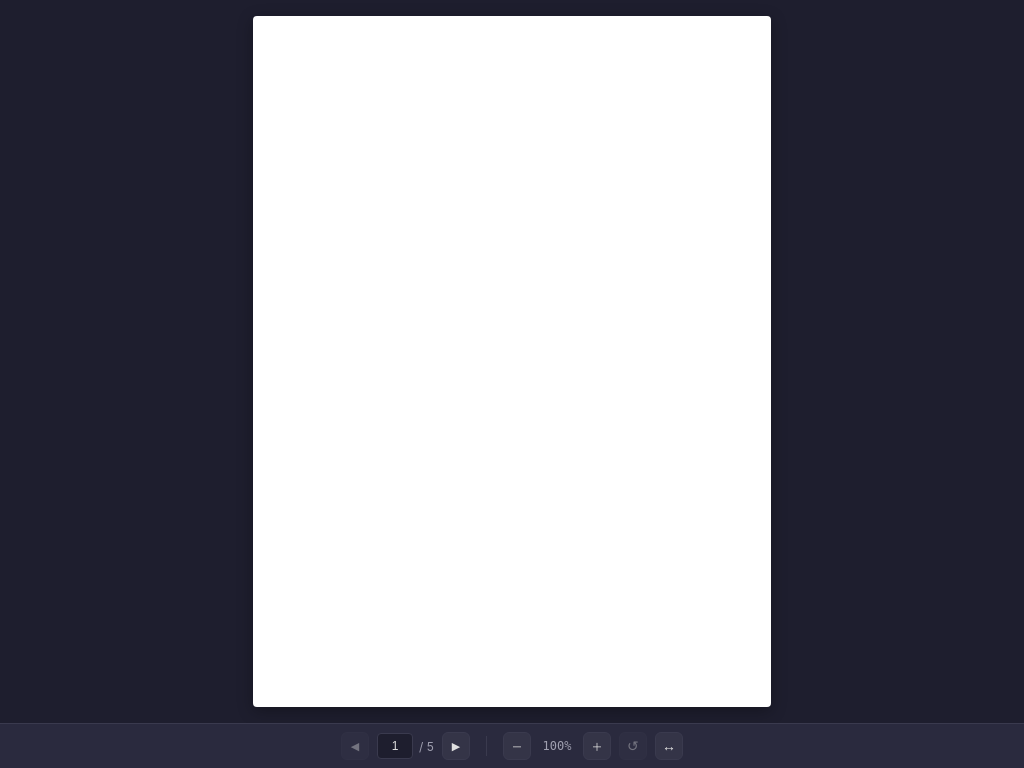
Test: RenderPdf Component › navigates page-by-page when clicking next/prev buttons
Expected: the button titled "Previous Page" is disabled, [341,732,369,760]
Click Next
Click the button titled "Next Page" at (456, 746), box [442,732,470,760]
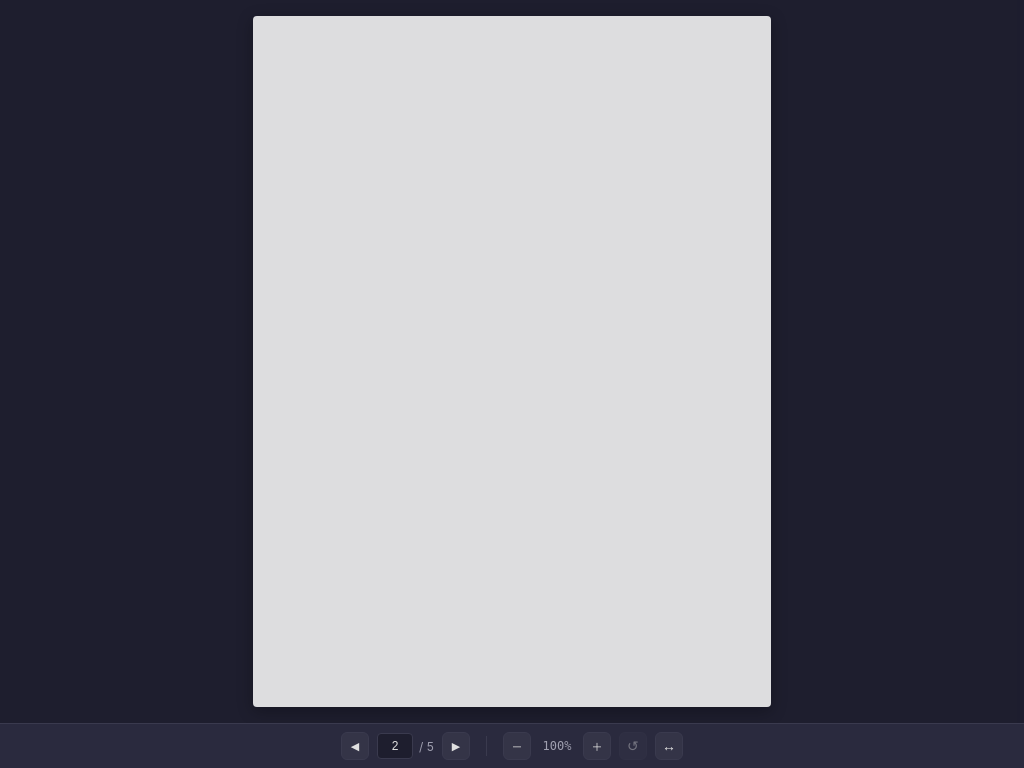
Expected: the field showing "2" is shown, [377,733,413,759]
Expected: the button titled "Previous Page" is enabled
Click Prev
Click the button titled "Previous Page" at (355, 746), box [341,732,369,760]
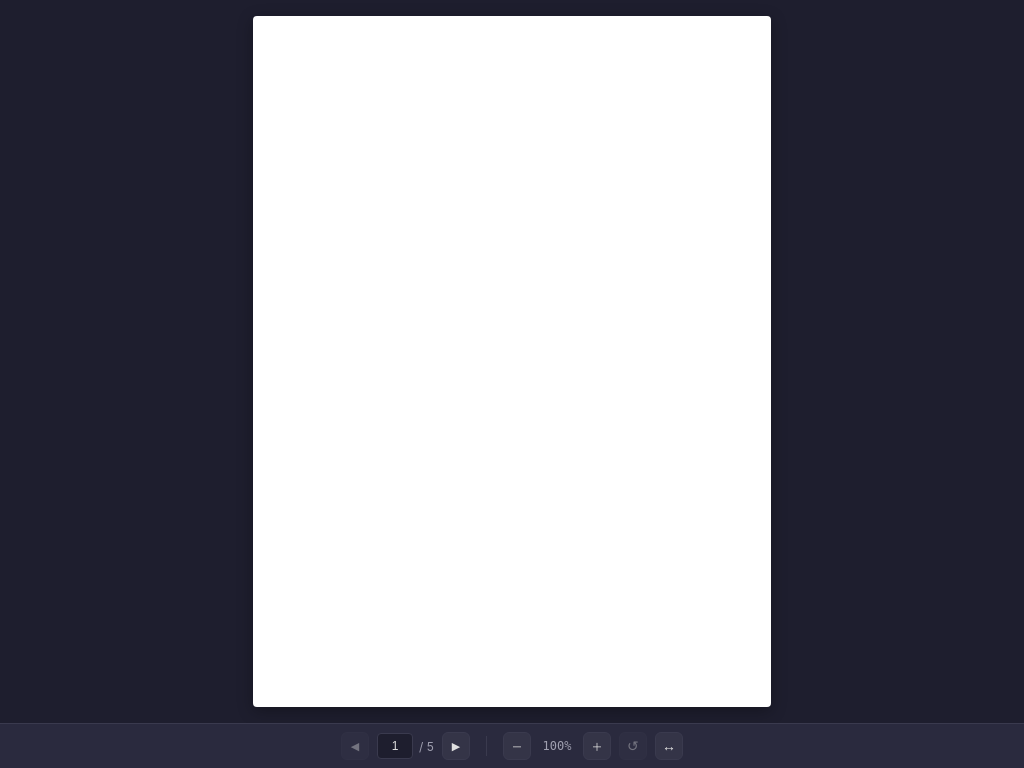
Expected: the field showing "1" is shown, [377,733,413,759]
